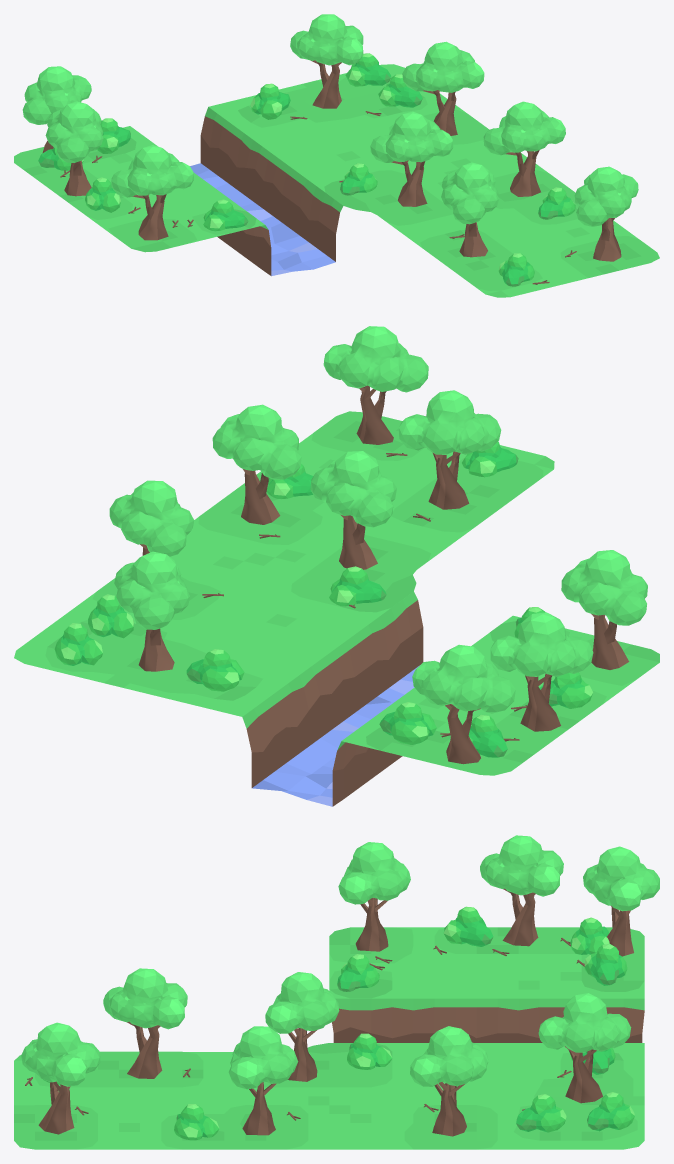
Rendered from grass_3.gltf.
3 views of the same model, one above another, from view 1: azimuth 30°, elevation 25°; view 2: azimuth 150°, elevation 25°; view 3: azimuth 270°, elevation 25° (orthographic). The views are drawn at different scales.
Visible parts, largest first — view 1: grass_level_3, forest_level_3, shadow_grass_level_3, cysts_level_3; view 2: grass_level_3, forest_level_3, shadow_grass_level_3, cysts_level_3; view 3: grass_level_3, forest_level_3, shadow_grass_level_3, cysts_level_3, vetka_3.
Part boxes in pixels (left/top/right/bottom): grass_level_3: left=82, top=64, right=651, bottom=297; forest_level_3: left=22, top=14, right=638, bottom=261; shadow_grass_level_3: left=14, top=76, right=659, bottom=290; cysts_level_3: left=38, top=53, right=575, bottom=286; grass_level_3: left=14, top=433, right=654, bottom=806; forest_level_3: left=109, top=326, right=647, bottom=764; shadow_grass_level_3: left=45, top=411, right=659, bottom=775; cysts_level_3: left=54, top=441, right=592, bottom=757; grass_level_3: left=14, top=927, right=644, bottom=1149; forest_level_3: left=21, top=835, right=659, bottom=1136; shadow_grass_level_3: left=14, top=927, right=644, bottom=1149; cysts_level_3: left=43, top=906, right=634, bottom=1140; vetka_3: left=25, top=938, right=584, bottom=1120.
Bounding box in the file's own units: 23.98 × 8.33 × 28.8.
